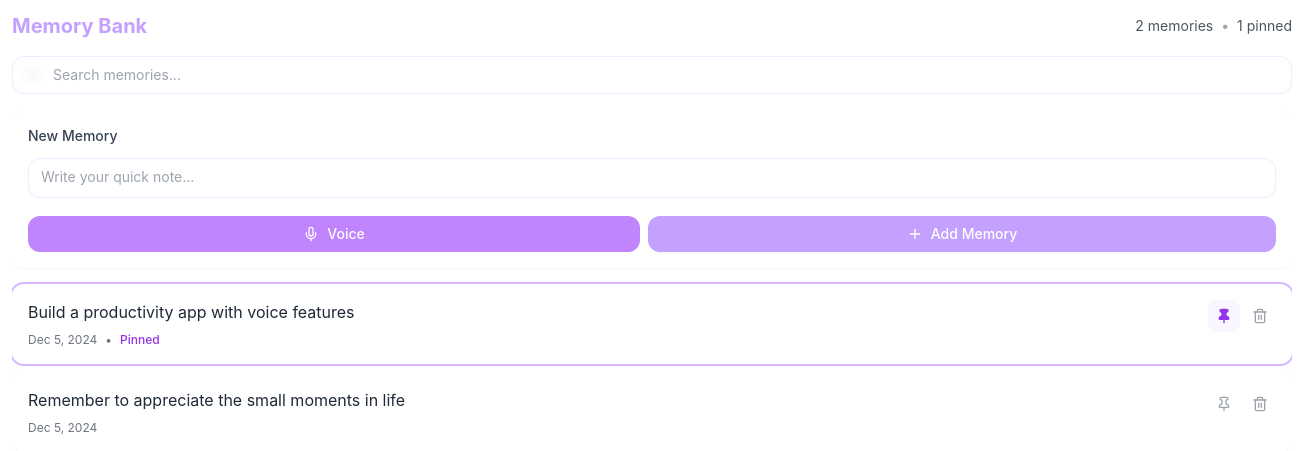
Test: MemoryBank Component › should delete memory
Expected: the text "Build a productivity app with voice features" is shown, [28, 302, 354, 322]
Click the 1st button titled "Delete": (1260, 316) [1244, 300, 1276, 332]
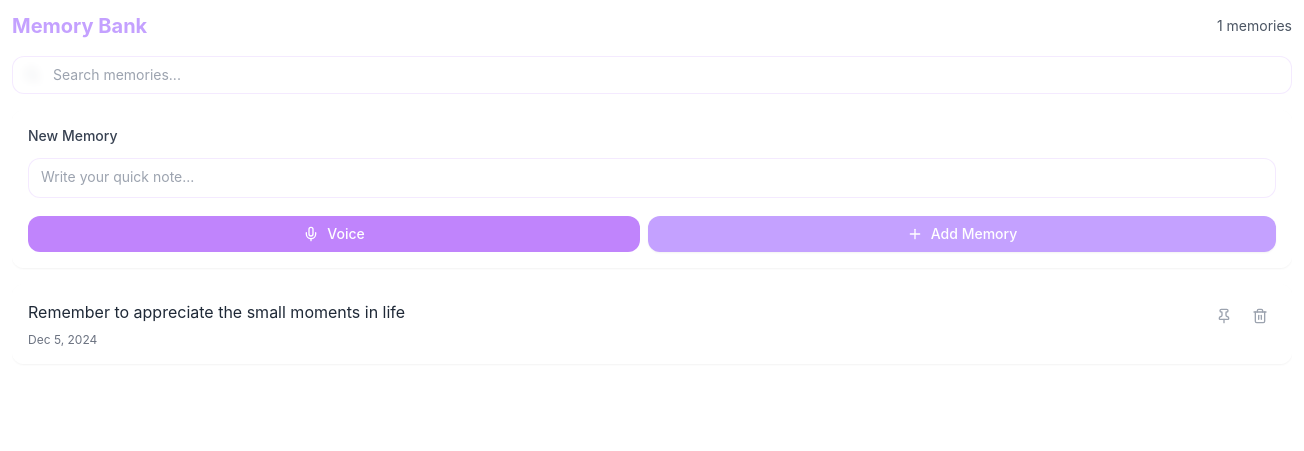
Expected: the text "Build a productivity app with voice features" is gone
